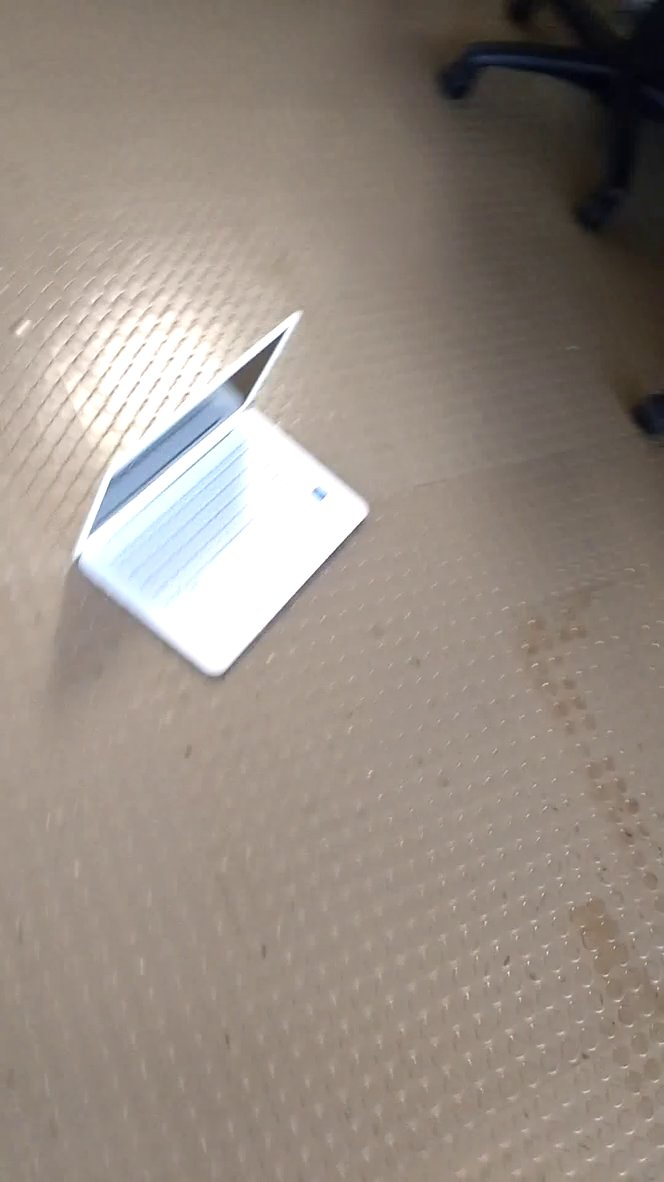laptop: (66, 300, 382, 686)
